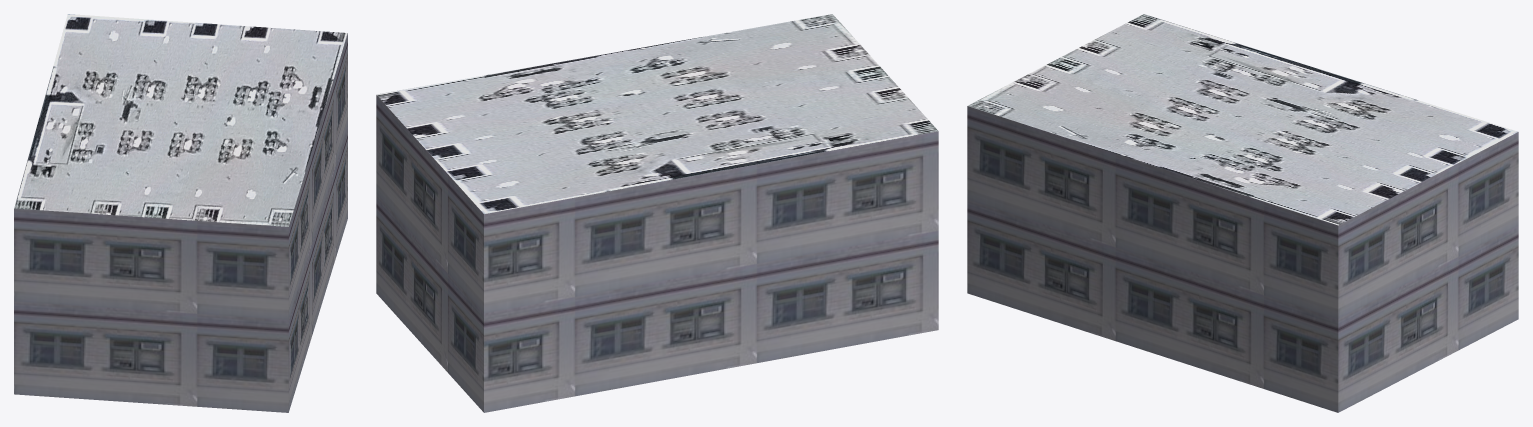
Rendered from ResTex__964.fbx.
The picture shows the model from 3 angles, left to right: view 1: azimuth 30°, elevation 25°; view 2: azimuth 150°, elevation 25°; view 3: azimuth 270°, elevation 25°; orthographic projection. The views are drawn at different scales.
Visible parts, largest first — view 1: CityEngineMaterial_1_m, CityEngineMaterial_m; view 2: CityEngineMaterial_1_m, CityEngineMaterial_m; view 3: CityEngineMaterial_1_m, CityEngineMaterial_m.
Boxes of the visible parts, x1,y1,x2,y2 form: CityEngineMaterial_1_m: (14,33,347,412); CityEngineMaterial_m: (14,14,347,226); CityEngineMaterial_1_m: (376,95,938,412); CityEngineMaterial_m: (376,14,938,213); CityEngineMaterial_1_m: (967,106,1518,412); CityEngineMaterial_m: (968,14,1518,225).
Size of the model in its own units: 14.52 by 6 by 15.99.
Materials: 2 (2 with a texture image).
